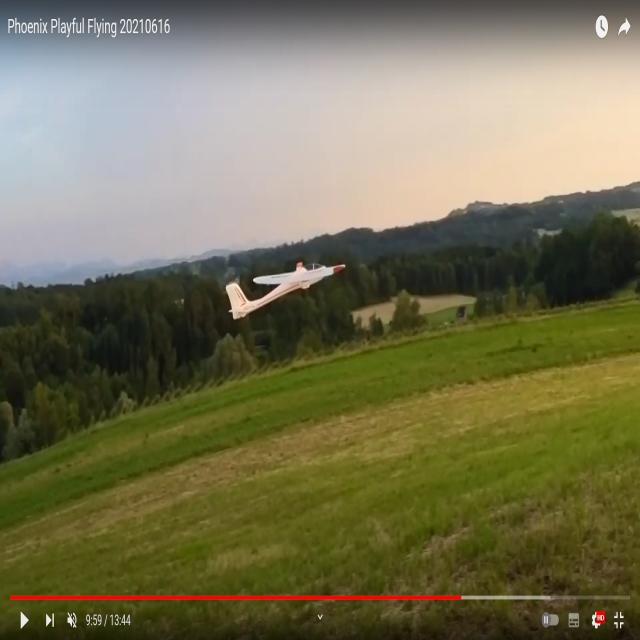iha: (258, 261, 316, 323)
